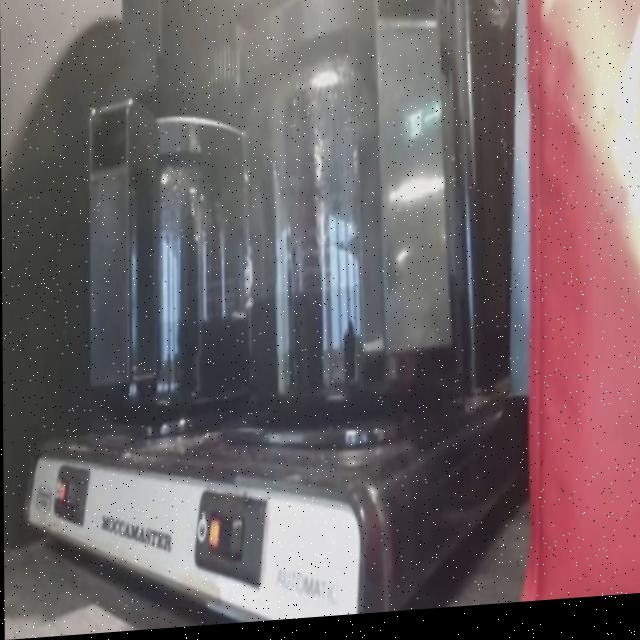coffee: (230, 0, 483, 457), (92, 78, 255, 426)
